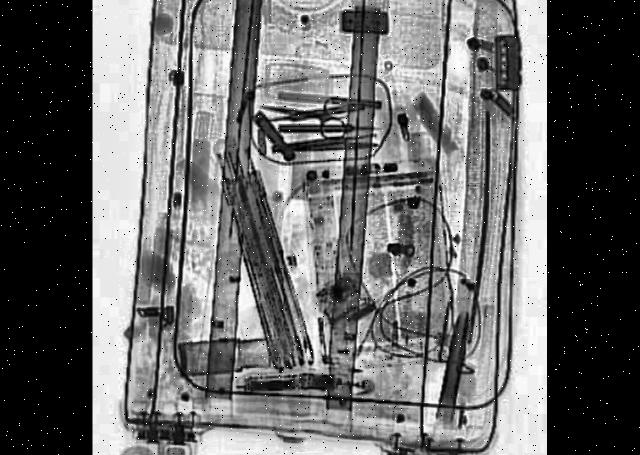Scissors: (262, 84, 351, 140)
